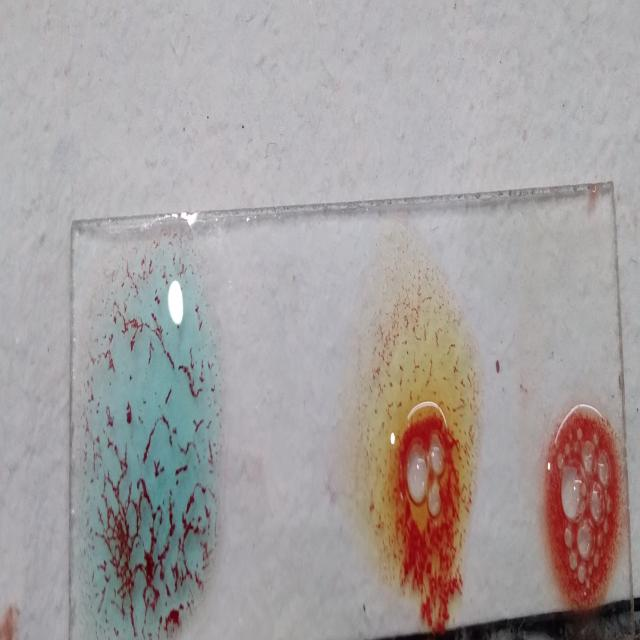A: (84, 223, 216, 640)
B: (360, 245, 479, 615)
D: (540, 401, 620, 604)
